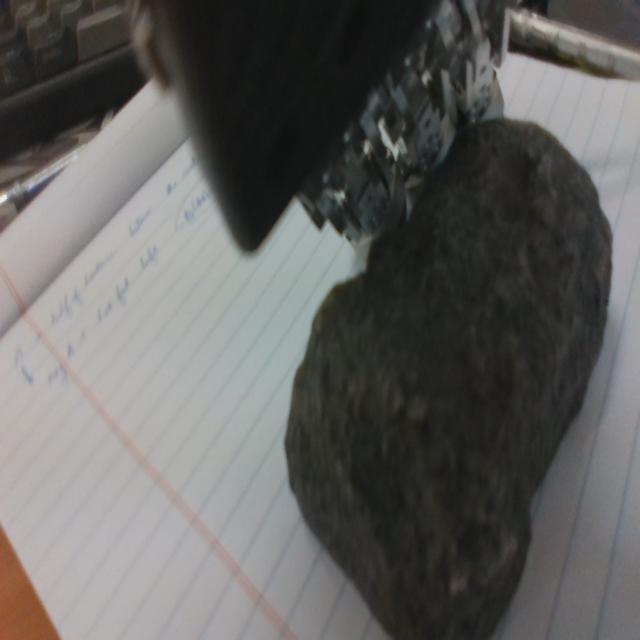stone: (284, 117, 614, 640)
